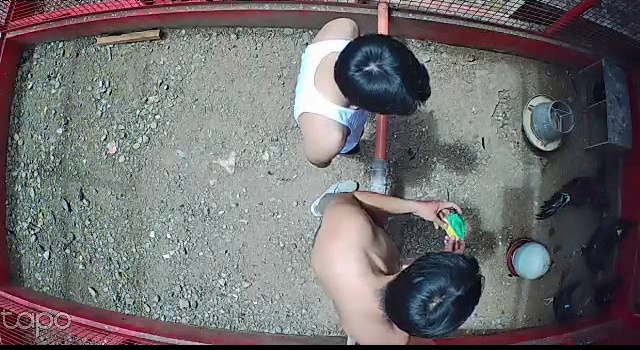Chicken: (542, 280, 582, 327)
Rooster: (533, 170, 604, 225)
